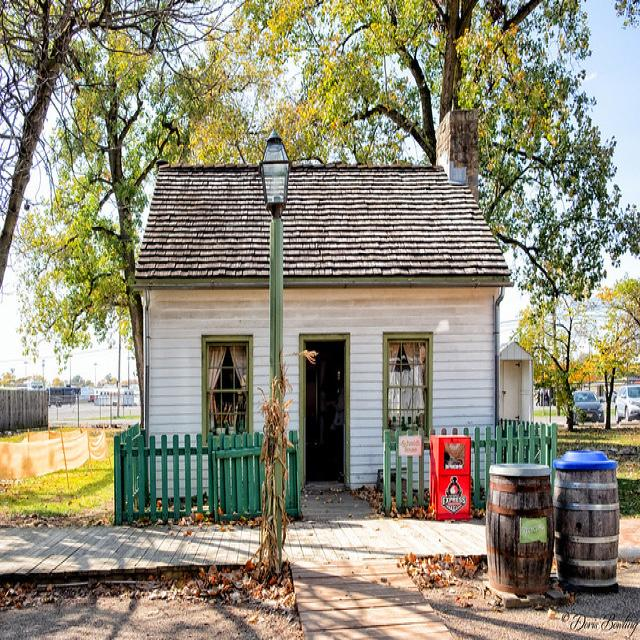building: (114, 158, 540, 523)
